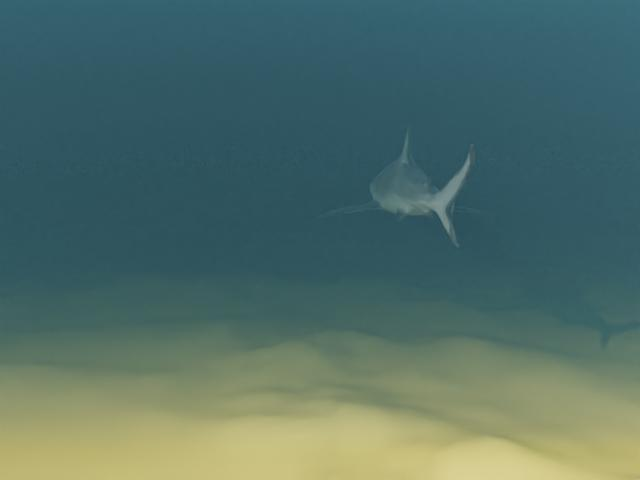Carribean Shark.001: (315, 125, 493, 247)
